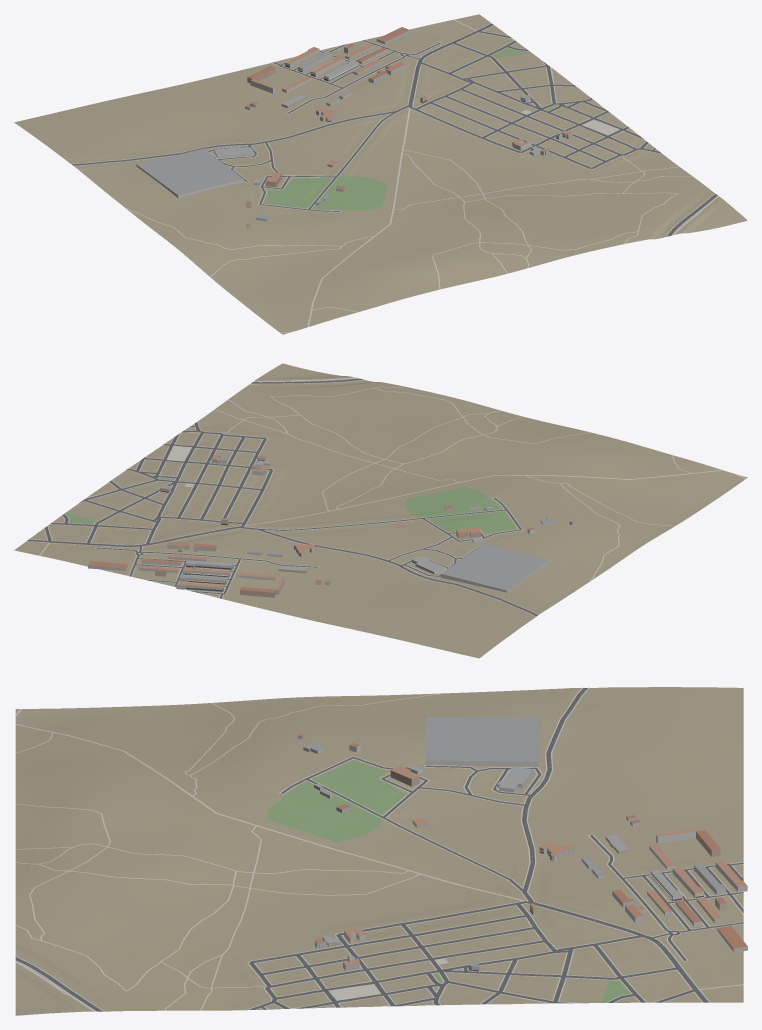
The picture shows the model from 3 angles, top to bottom: view 1: azimuth 30°, elevation 25°; view 2: azimuth 150°, elevation 25°; view 3: azimuth 270°, elevation 25°; orthographic projection. The views are drawn at different scales.
Visible parts, largest first — view 1: Ground, Sidewalk, Road, Roofs, Park, Walls; view 2: Ground, Sidewalk, Road, Roofs, Park, Walls; view 3: Ground, Sidewalk, Road, Roofs, Park, Walls.
Boxes of the visible parts, left/top/right/bottom form: Ground: left=14, top=14, right=747, bottom=334; Sidewalk: left=71, top=19, right=718, bottom=333; Road: left=72, top=23, right=717, bottom=236; Roofs: left=137, top=27, right=572, bottom=225; Park: left=264, top=47, right=571, bottom=210; Walls: left=136, top=30, right=572, bottom=228; Ground: left=14, top=363, right=747, bottom=658; Sidewalk: left=26, top=377, right=745, bottom=616; Road: left=27, top=378, right=537, bottom=616; Roofs: left=88, top=454, right=574, bottom=592; Park: left=65, top=474, right=515, bottom=533; Walls: left=88, top=455, right=574, bottom=597; Ground: left=15, top=687, right=743, bottom=1015; Sidewalk: left=15, top=687, right=743, bottom=1011; Road: left=15, top=688, right=743, bottom=1011; Roofs: left=298, top=717, right=747, bottom=966; Park: left=267, top=760, right=630, bottom=1002; Walls: left=297, top=723, right=747, bottom=971.
Size of the model in its own units: 1002 by 39.44 by 1008.
